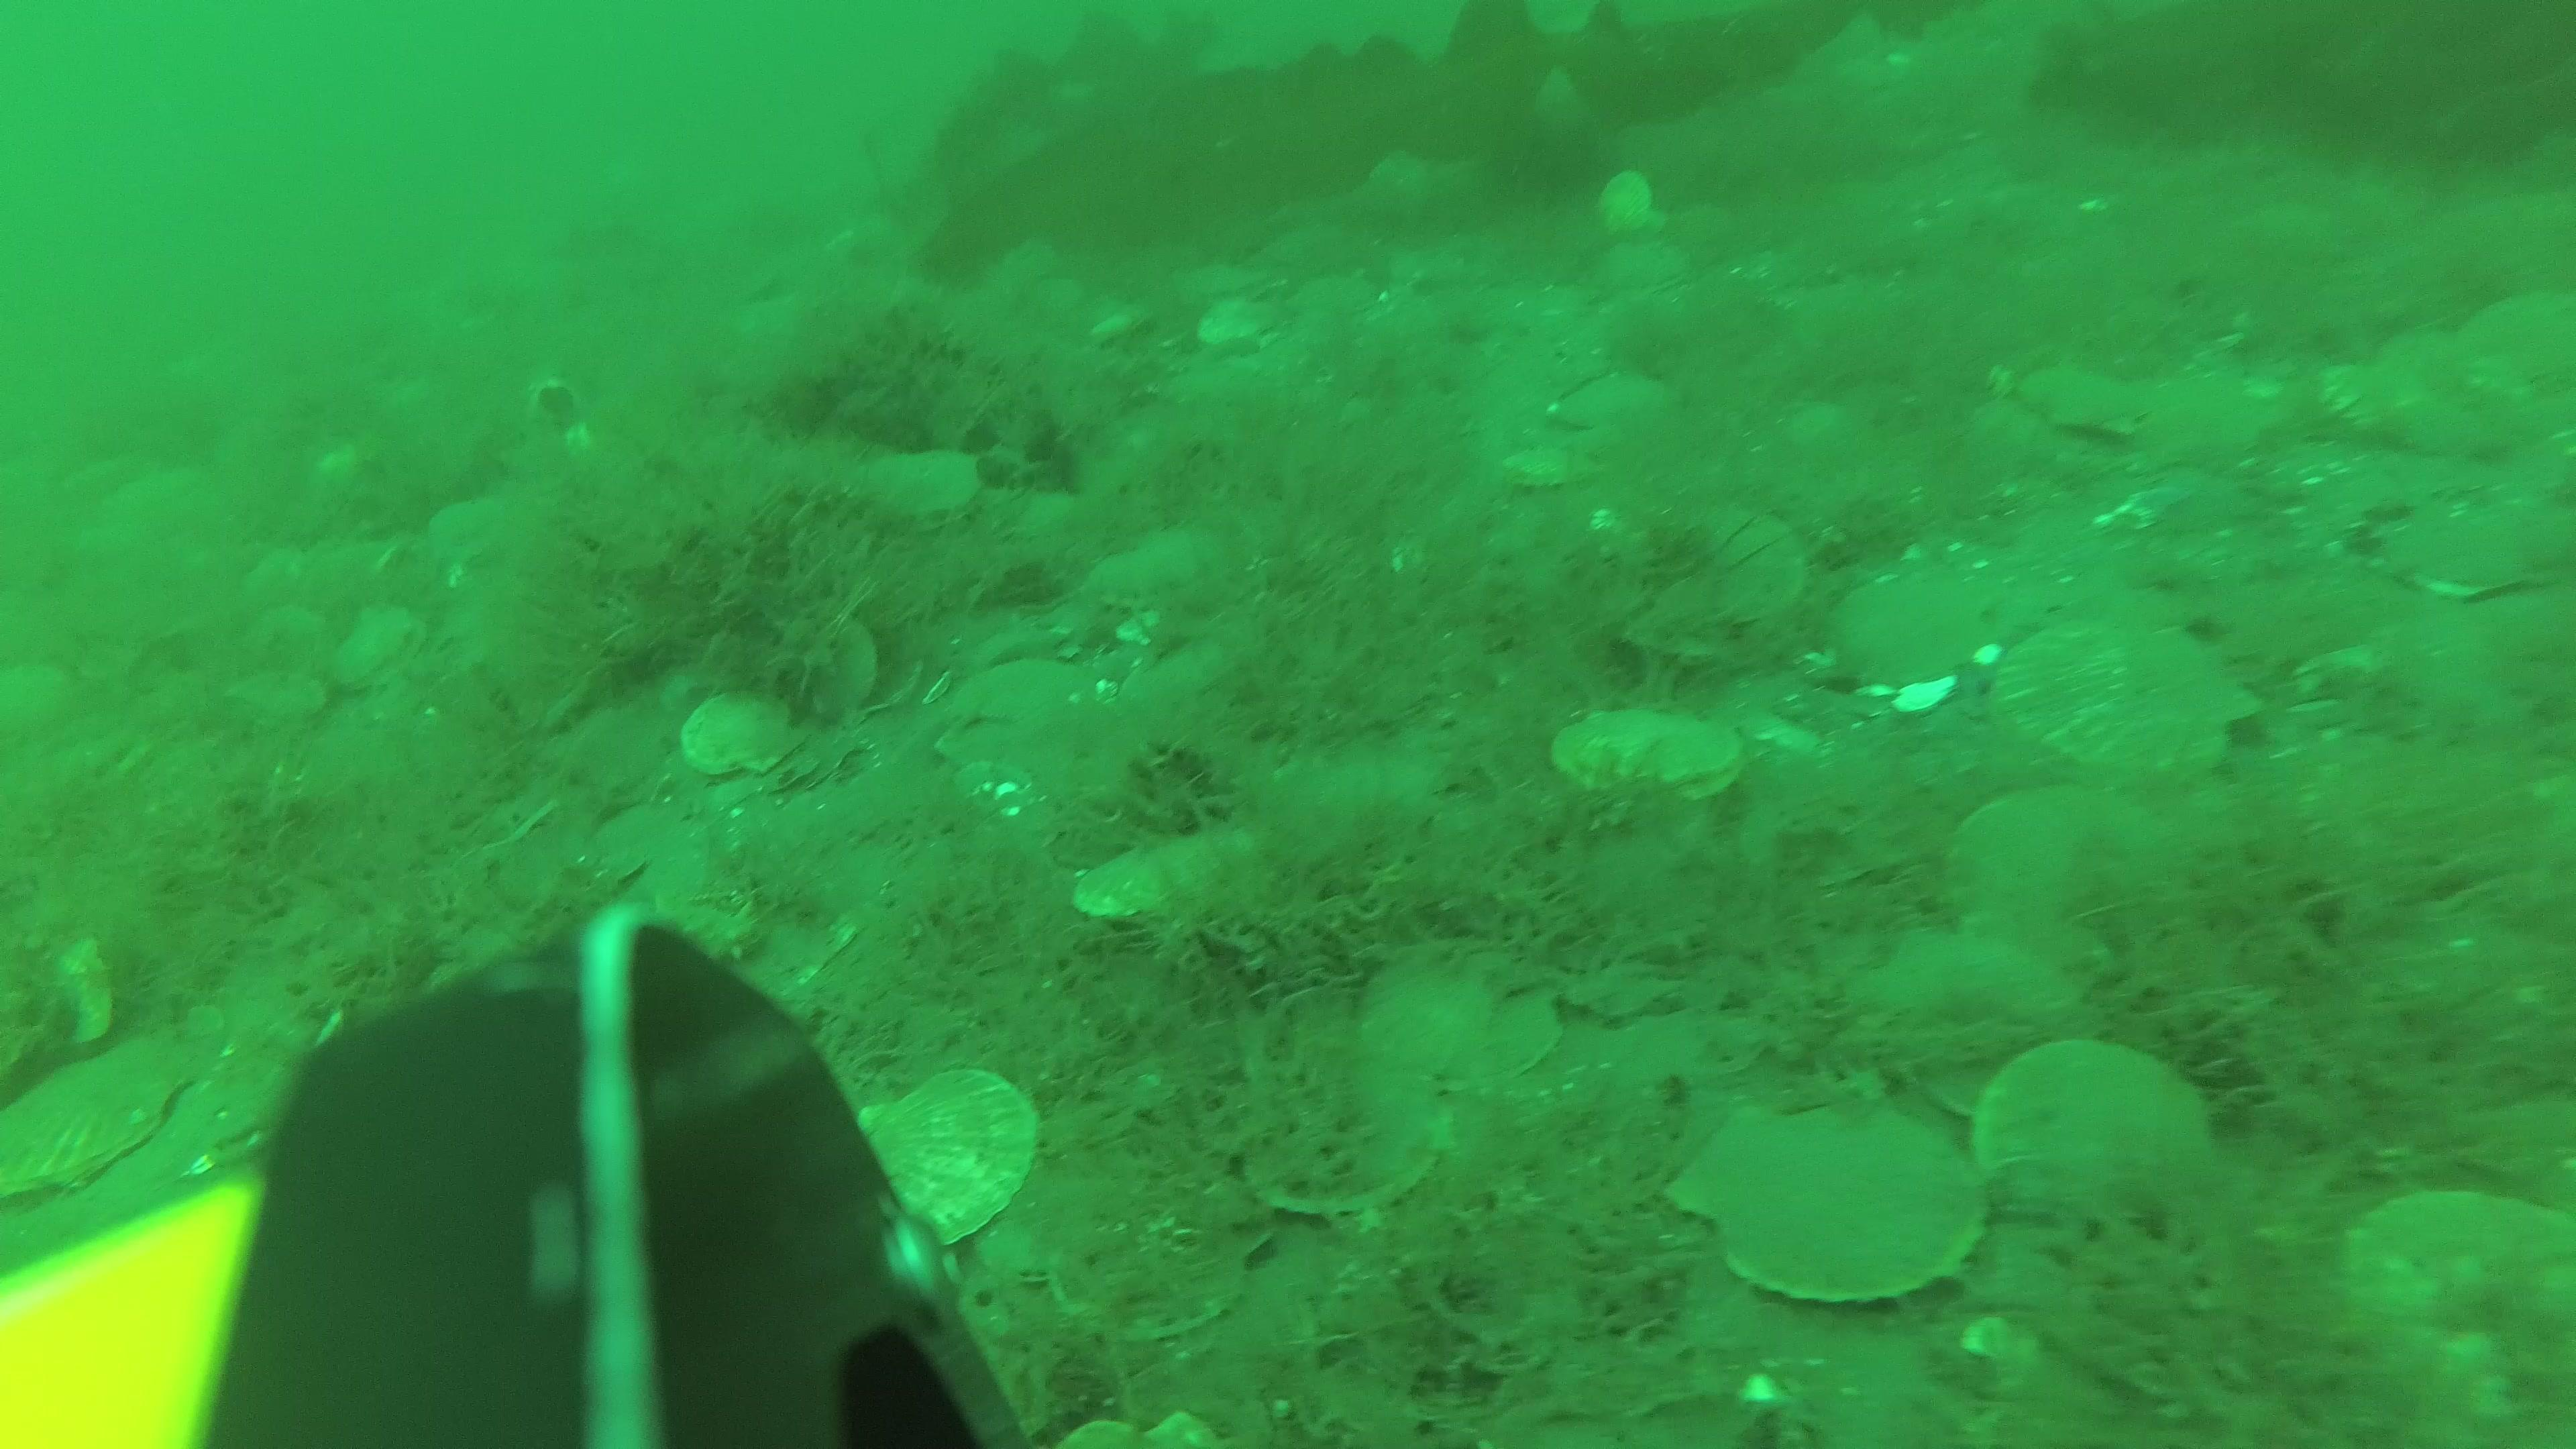scallop: (1684, 1092, 1992, 1320), (1996, 605, 2265, 798), (1971, 1031, 2222, 1235), (1238, 1019, 1463, 1205), (1585, 501, 1810, 665), (1063, 1162, 1272, 1339), (862, 1065, 1047, 1253), (4, 1028, 205, 1200), (1361, 941, 1562, 1088), (1069, 805, 1265, 927), (1559, 702, 1741, 819), (1948, 798, 2107, 931), (1835, 568, 1992, 694), (2325, 356, 2491, 464), (2373, 506, 2542, 607), (582, 800, 722, 918), (856, 453, 991, 533), (794, 600, 879, 715), (1548, 372, 1683, 444), (679, 685, 787, 775), (336, 609, 435, 695), (226, 660, 331, 741), (2022, 368, 2127, 444), (426, 502, 518, 571), (1603, 226, 1693, 294), (1598, 165, 1660, 242)
